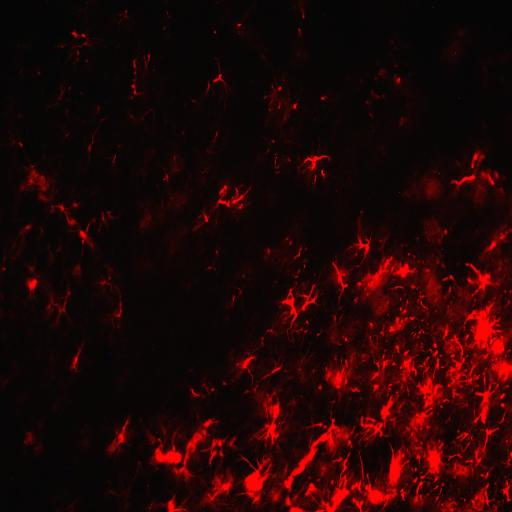microglia: (288, 448, 319, 474), (298, 286, 320, 315), (387, 450, 405, 484), (154, 445, 182, 465), (327, 486, 350, 510), (364, 267, 386, 291), (474, 311, 490, 340), (244, 468, 266, 489), (262, 422, 281, 446), (366, 484, 388, 504), (312, 426, 334, 446), (425, 382, 441, 408), (473, 486, 489, 512), (379, 399, 397, 419), (27, 171, 47, 188), (328, 370, 346, 388), (166, 495, 185, 512), (483, 426, 499, 446), (496, 360, 511, 381), (427, 453, 444, 471), (396, 265, 414, 280), (217, 476, 232, 494), (454, 175, 476, 187), (264, 365, 284, 378), (268, 402, 282, 420), (287, 298, 297, 322), (413, 411, 428, 427), (417, 378, 432, 394), (308, 151, 322, 168), (357, 238, 372, 253), (470, 149, 483, 166), (188, 434, 200, 452), (475, 274, 492, 286), (28, 278, 40, 295), (341, 454, 351, 474), (504, 472, 511, 500), (334, 269, 347, 284), (374, 425, 390, 437), (486, 174, 498, 190), (457, 431, 472, 443), (480, 390, 492, 404), (306, 484, 318, 498), (360, 420, 374, 432), (242, 356, 254, 369), (402, 356, 412, 371), (72, 263, 82, 278), (478, 408, 490, 420), (454, 467, 470, 476), (164, 172, 175, 185), (202, 417, 216, 427), (212, 74, 226, 84), (72, 354, 82, 368), (116, 302, 123, 322), (58, 305, 68, 319), (440, 503, 454, 512), (285, 506, 305, 512), (81, 226, 89, 241), (285, 474, 293, 489), (355, 500, 365, 512), (474, 450, 482, 464), (216, 199, 230, 207), (480, 470, 491, 480), (392, 73, 402, 84), (364, 413, 376, 422), (207, 492, 216, 504), (84, 140, 92, 153), (296, 26, 306, 36), (294, 247, 303, 258), (22, 224, 34, 232), (378, 67, 387, 77), (488, 240, 496, 251), (414, 483, 425, 491), (193, 388, 201, 399), (441, 227, 449, 238), (210, 451, 216, 465), (489, 336, 497, 346), (286, 288, 294, 298), (0, 264, 8, 274), (299, 12, 307, 22), (252, 496, 262, 504), (148, 502, 156, 512), (117, 432, 124, 443), (233, 197, 248, 202), (507, 447, 512, 462), (26, 435, 34, 444), (111, 154, 117, 166), (359, 478, 363, 496), (451, 389, 458, 399), (272, 492, 279, 502), (347, 440, 354, 450), (352, 481, 358, 492), (108, 210, 113, 223), (372, 383, 380, 391), (29, 264, 37, 272), (215, 439, 224, 446), (71, 30, 78, 39), (371, 372, 380, 379), (399, 117, 406, 126), (292, 102, 298, 112), (203, 214, 209, 224), (105, 273, 115, 279), (449, 367, 456, 375), (283, 499, 292, 505), (443, 328, 449, 337), (420, 494, 424, 506), (146, 54, 152, 62), (210, 385, 216, 393), (237, 202, 243, 210), (382, 361, 388, 369), (389, 326, 395, 334), (124, 8, 130, 16), (18, 140, 26, 146), (270, 136, 276, 144), (450, 455, 462, 459), (435, 359, 440, 368), (409, 314, 416, 320), (222, 381, 228, 388), (219, 188, 226, 194), (458, 364, 464, 371), (100, 280, 106, 287), (365, 100, 372, 106), (218, 450, 224, 457), (80, 32, 85, 40), (500, 393, 506, 399), (500, 234, 506, 240), (450, 272, 454, 281), (432, 350, 438, 356), (96, 106, 102, 112), (75, 49, 81, 55), (344, 336, 349, 343), (132, 88, 139, 93), (236, 22, 243, 27), (59, 205, 66, 210), (397, 344, 401, 352), (101, 214, 105, 222), (247, 492, 255, 496), (276, 85, 282, 90), (132, 61, 137, 67), (213, 30, 218, 36), (234, 186, 239, 192), (405, 349, 410, 355), (456, 375, 462, 380), (166, 11, 171, 17), (448, 286, 452, 293), (319, 97, 326, 101), (469, 378, 473, 385), (265, 248, 270, 253), (416, 452, 420, 458), (232, 294, 236, 300), (433, 343, 437, 349), (500, 403, 505, 407), (450, 352, 454, 357), (396, 318, 400, 323), (297, 368, 302, 372), (403, 308, 406, 314), (162, 27, 168, 30), (444, 276, 448, 280), (318, 385, 322, 389), (369, 323, 373, 327), (131, 82, 135, 86), (37, 71, 41, 75), (207, 266, 212, 269), (215, 250, 218, 254), (463, 498, 466, 502), (240, 289, 242, 294), (289, 241, 292, 244), (224, 185, 227, 188), (456, 362, 458, 366), (242, 276, 244, 278)
